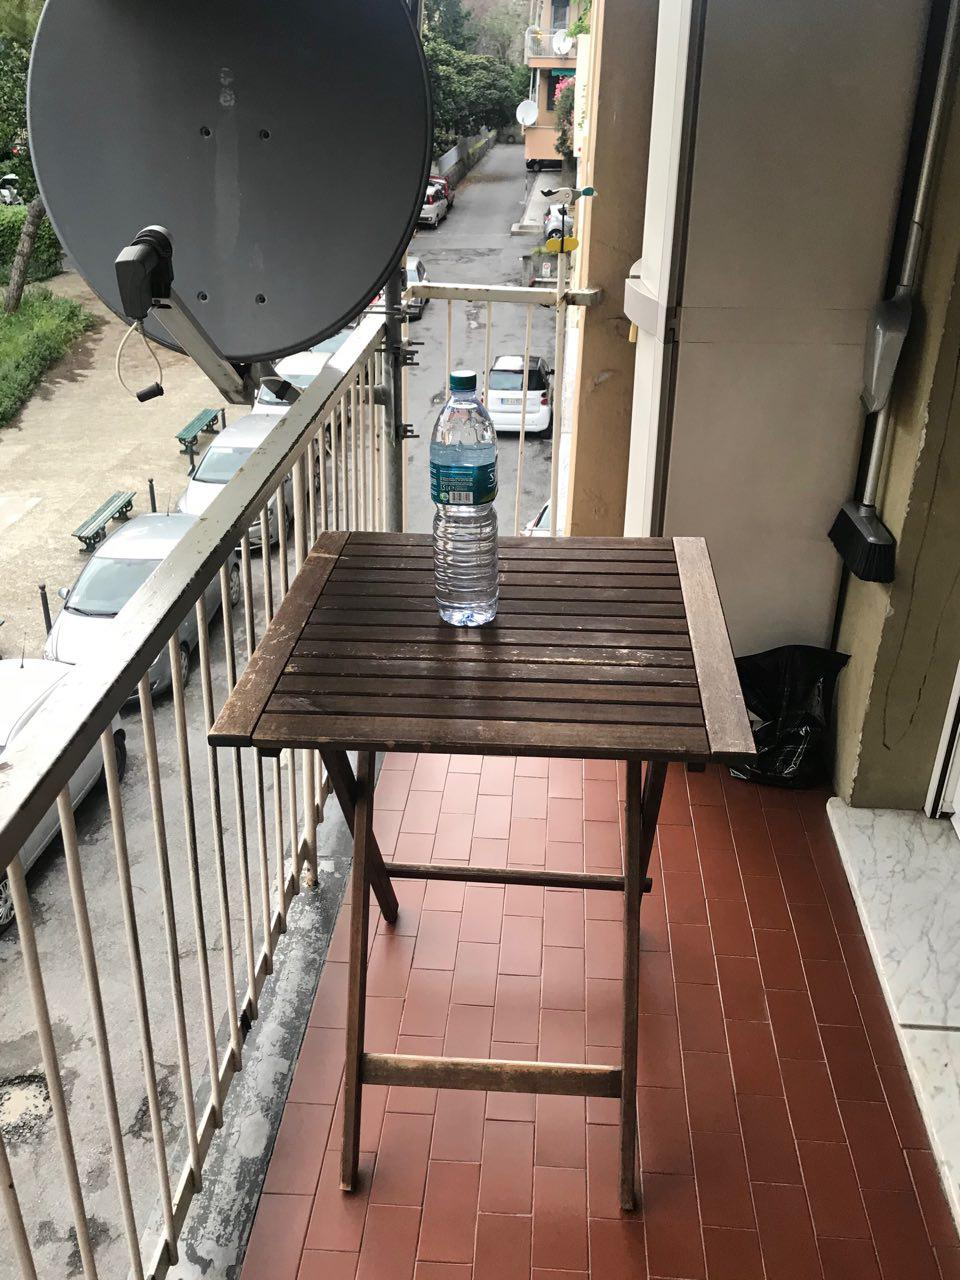san_bernardo: (429, 367, 499, 626)
